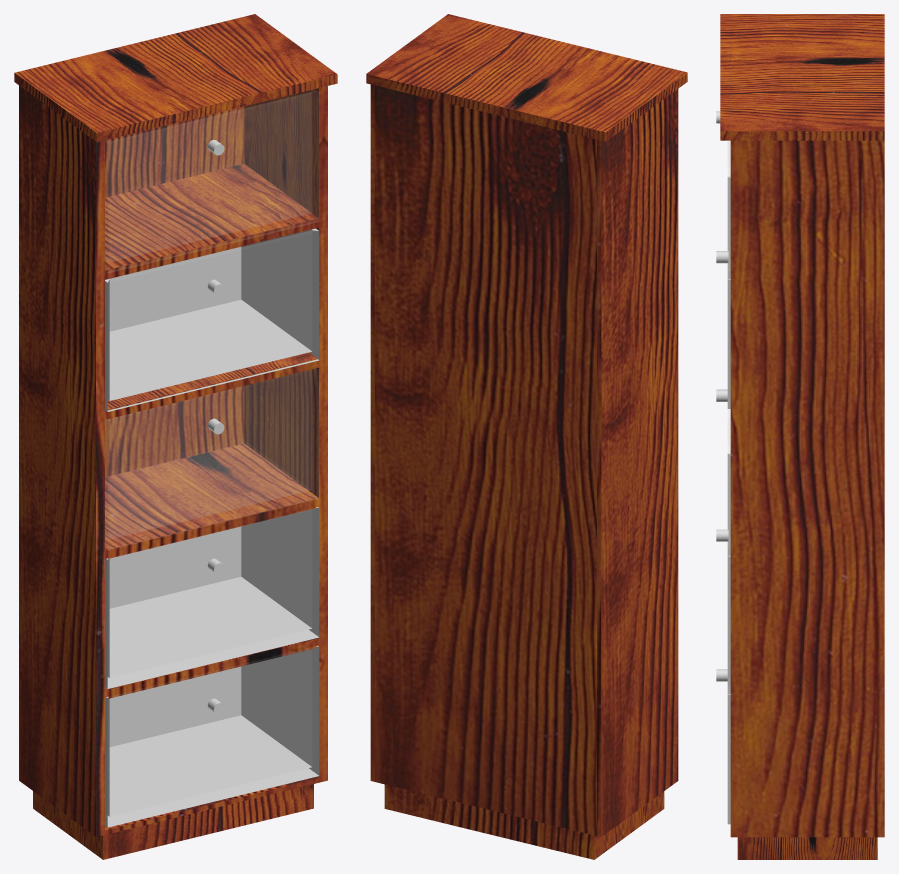
Rendered from drawer.dae.
3 renders of one model, left to right at view 1: azimuth 30°, elevation 25°; view 2: azimuth 150°, elevation 25°; view 3: azimuth 270°, elevation 25°, orthographic.
Visible parts, largest first — view 1: Default; view 2: Default; view 3: Default.
Part boxes in pixels (box(x1,y1,x2,y2)): Default: box(14, 14, 337, 859); Default: box(366, 14, 687, 859); Default: box(716, 14, 884, 859).
Bounding box in the file's own units: 0.27 × 0.164 × 0.79.
Materials: 4 (1 with a texture image).
